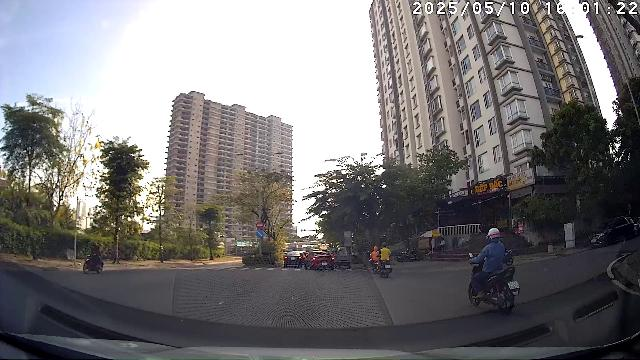102-cam-di-nguoc-chieu: (256, 221, 264, 229)
302a-huong-phai-di-vong-chuong-ngai-vat-1: (255, 229, 264, 238)
